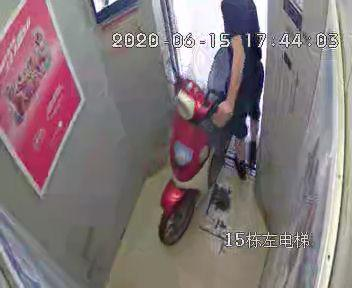Electric-bicycle: (156, 48, 233, 246)
